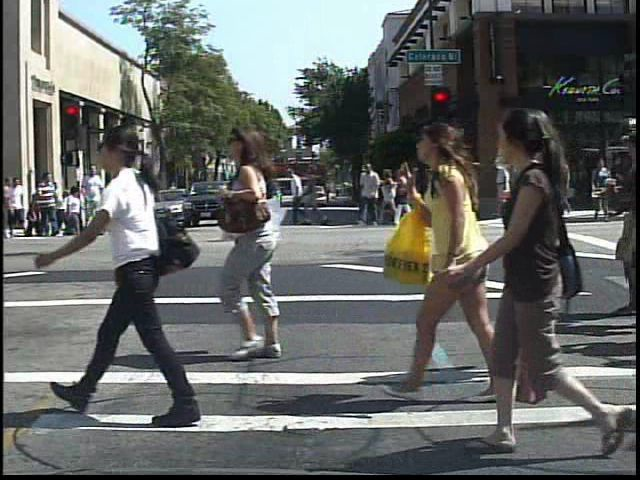person: (454, 96, 636, 462), (39, 116, 202, 433), (195, 118, 319, 364), (486, 107, 595, 376), (400, 116, 502, 403), (490, 152, 522, 224), (33, 165, 60, 238), (78, 160, 108, 219), (5, 172, 28, 242), (103, 176, 123, 215), (165, 175, 183, 213)
